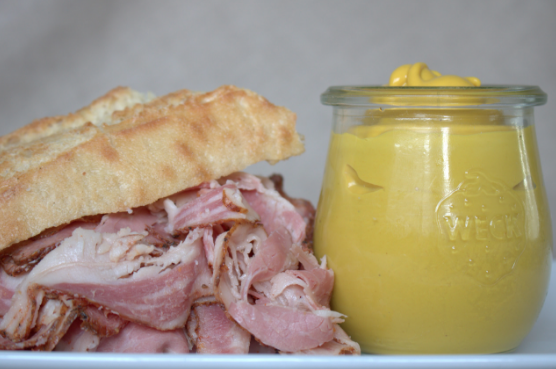soup: (1, 84, 358, 356)
